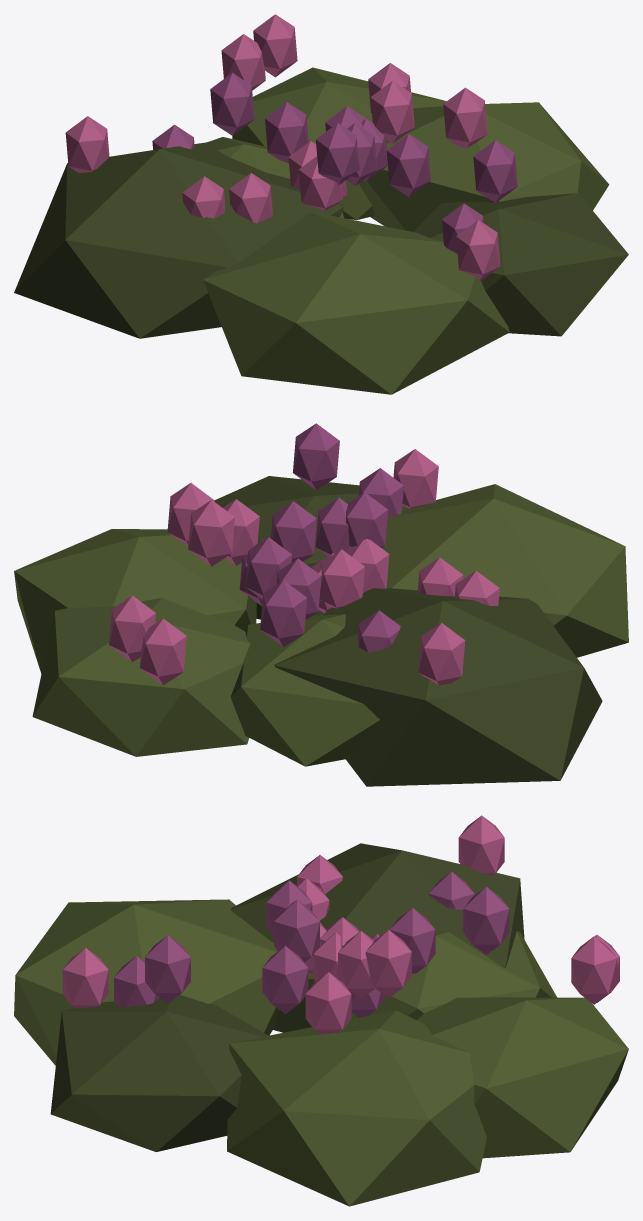
The model's file is forest_heather.glb.
3 renders of one model, top to bottom at view 1: azimuth 30°, elevation 25°; view 2: azimuth 150°, elevation 25°; view 3: azimuth 270°, elevation 25°, orthographic. The views are drawn at different scales.
Visible parts, largest first — view 1: forest_heather; view 2: forest_heather; view 3: forest_heather.
Part boxes in pixels (<box>): forest_heather: <box>14,14,628,394</box>; forest_heather: <box>14,423,628,786</box>; forest_heather: <box>14,815,628,1206</box>.
Size of the model in its own units: 1.41 by 0.4333 by 1.25.
